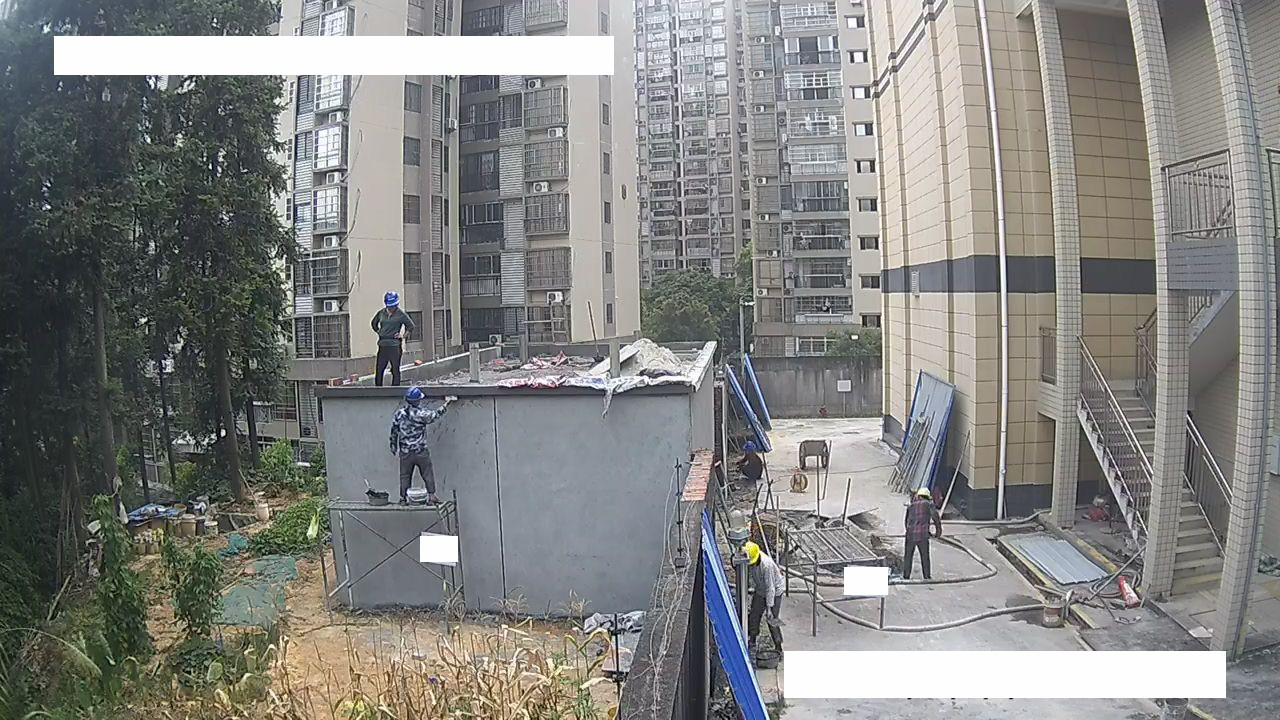hat: (740, 540, 764, 567), (401, 382, 424, 407), (382, 287, 402, 312), (914, 485, 932, 506)
